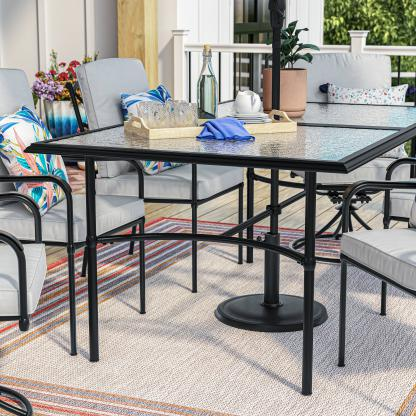table: (24, 87, 415, 398)
